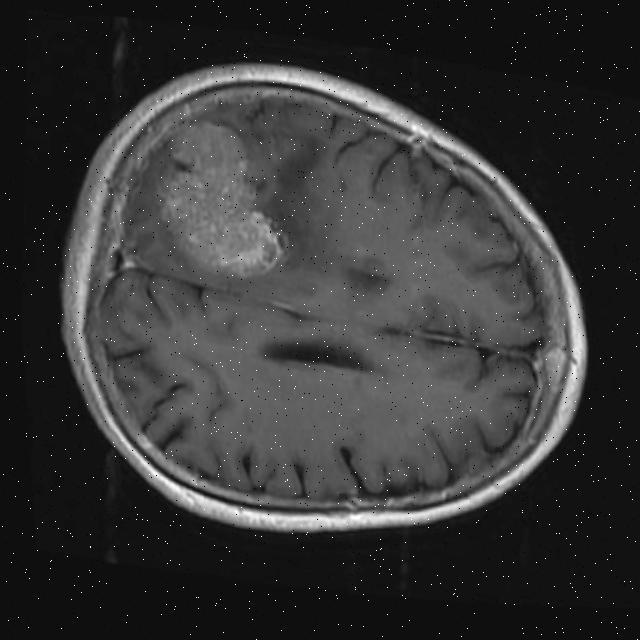Meningioma: (149, 114, 298, 286)
